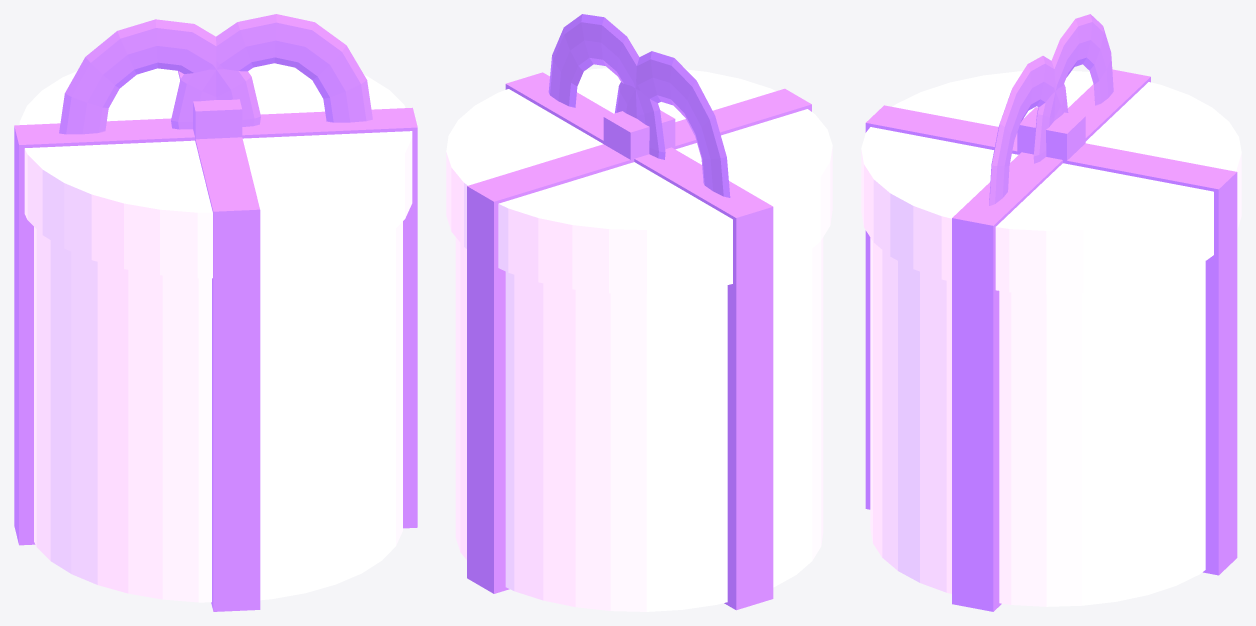
Rendered from Tmpl_Round_Root_191.glb.
The picture shows the model from 3 angles, left to right: view 1: azimuth 30°, elevation 25°; view 2: azimuth 150°, elevation 25°; view 3: azimuth 270°, elevation 25°; orthographic projection. The views are drawn at different scales.
Visible parts, largest first — view 1: Tmpl_Round_Base.189, Tmpl_Round_Lid.189, Tmpl_Round_Ribbon_Y.189, Tmpl_Round_Ribbon_X.189, Tmpl_Round_BowR.189, Tmpl_Round_BowL.189, Tmpl_Round_BowKnot.189; view 2: Tmpl_Round_Base.189, Tmpl_Round_Lid.189, Tmpl_Round_Ribbon_X.189, Tmpl_Round_Ribbon_Y.189, Tmpl_Round_BowR.189, Tmpl_Round_BowL.189, Tmpl_Round_BowKnot.189; view 3: Tmpl_Round_Base.189, Tmpl_Round_Lid.189, Tmpl_Round_Ribbon_X.189, Tmpl_Round_Ribbon_Y.189, Tmpl_Round_BowL.189, Tmpl_Round_BowR.189, Tmpl_Round_BowKnot.189.
Part boxes in pixels (bbox=[...]): Tmpl_Round_Base.189: bbox=[34, 221, 402, 602]; Tmpl_Round_Lid.189: bbox=[19, 63, 412, 278]; Tmpl_Round_Ribbon_Y.189: bbox=[178, 71, 260, 611]; Tmpl_Round_Ribbon_X.189: bbox=[14, 107, 417, 545]; Tmpl_Round_BowR.189: bbox=[171, 14, 372, 129]; Tmpl_Round_BowL.189: bbox=[59, 19, 260, 134]; Tmpl_Round_BowKnot.189: bbox=[193, 99, 242, 141]; Tmpl_Round_Base.189: bbox=[455, 237, 823, 611]; Tmpl_Round_Lid.189: bbox=[446, 68, 832, 294]; Tmpl_Round_Ribbon_X.189: bbox=[505, 72, 773, 610]; Tmpl_Round_Ribbon_Y.189: bbox=[467, 88, 811, 593]; Tmpl_Round_BowR.189: bbox=[548, 14, 665, 159]; Tmpl_Round_BowL.189: bbox=[615, 51, 730, 197]; Tmpl_Round_BowKnot.189: bbox=[603, 110, 675, 161]; Tmpl_Round_Base.189: bbox=[870, 238, 1205, 606]; Tmpl_Round_Lid.189: bbox=[861, 71, 1241, 294]; Tmpl_Round_Ribbon_X.189: bbox=[952, 69, 1150, 611]; Tmpl_Round_Ribbon_Y.189: bbox=[865, 105, 1237, 575]; Tmpl_Round_BowL.189: bbox=[1033, 14, 1113, 163]; Tmpl_Round_BowR.189: bbox=[989, 56, 1068, 205]; Tmpl_Round_BowKnot.189: bbox=[1017, 107, 1085, 163].
Bounding box in the file's own units: 0.8798 × 1.26 × 0.8798.
